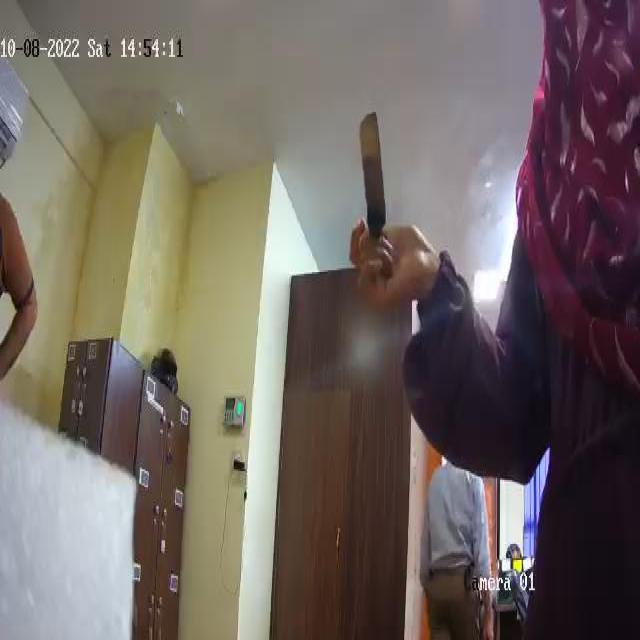Knife: (356, 85, 392, 274)
